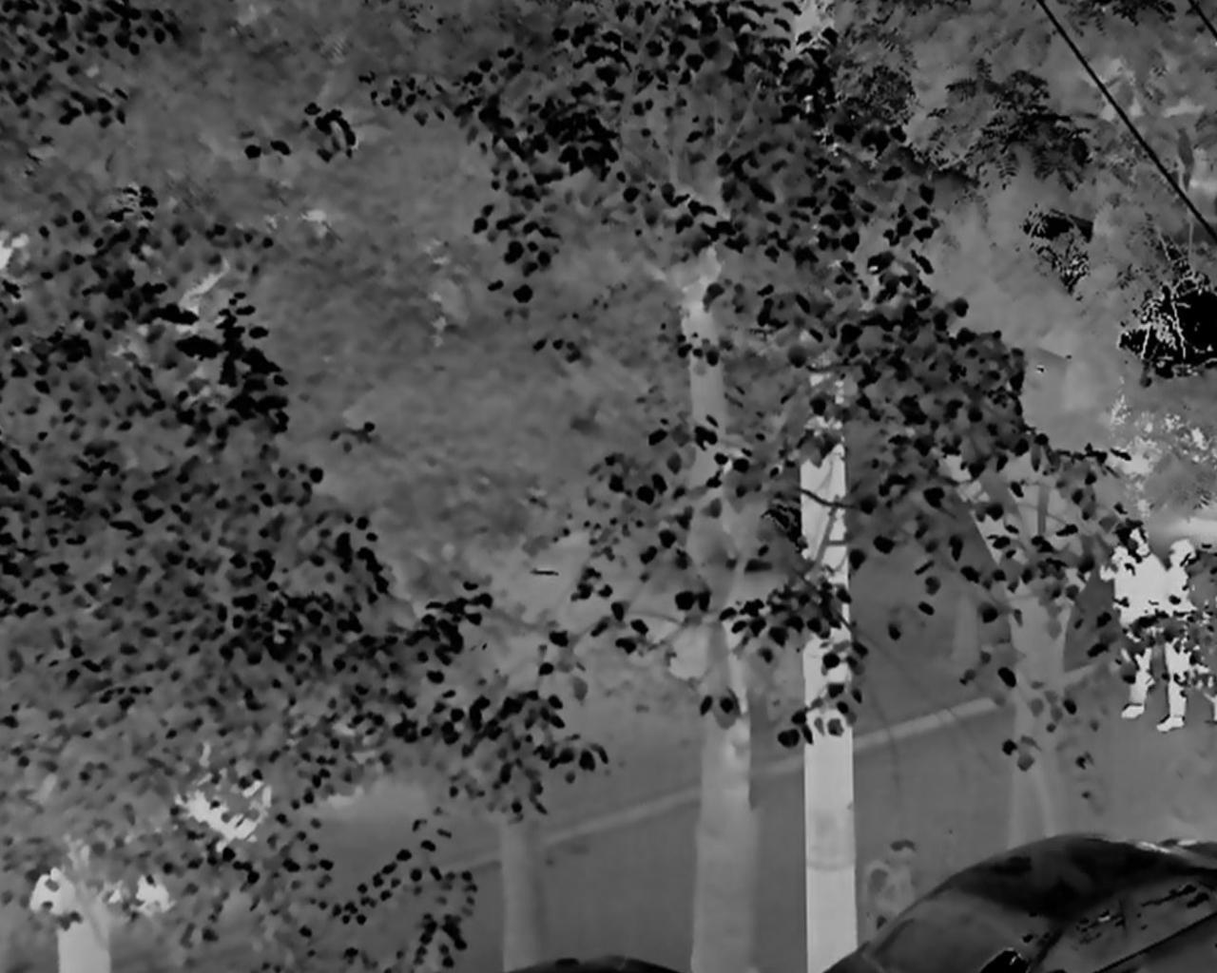person: (1153, 542, 1215, 740), (1105, 528, 1165, 721)
